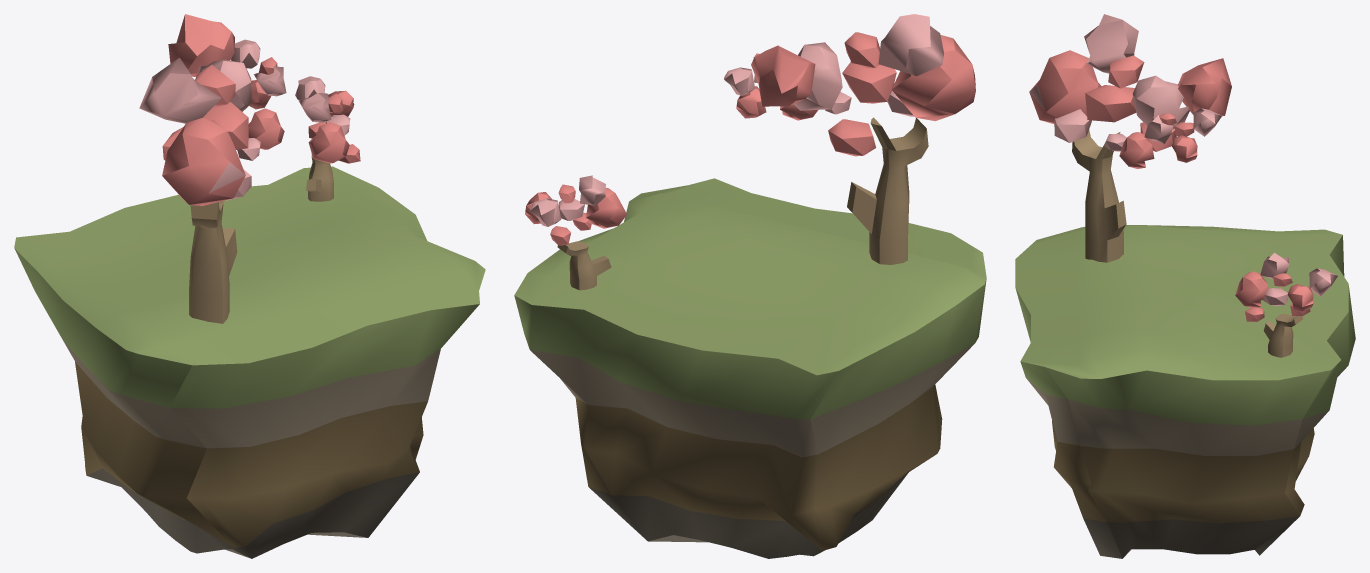
File: ground-red.fbx
3 views of the same model, side by side, from view 1: azimuth 30°, elevation 25°; view 2: azimuth 150°, elevation 25°; view 3: azimuth 270°, elevation 25° (orthographic). The views are drawn at different scales.
Visible parts, largest first — view 1: pCube1, pCylinder5, pCube2, pCylinder8, pCylinder7, polySurface6, pCylinder3, pCylinder6, polySurface90, polySurface28, pCylinder2, polySurface2 (+2 smaller); view 2: pCube1, pCube2, pCylinder5, pCylinder8, pCylinder7, pCylinder6, pCylinder3, polySurface28, pCylinder4, polySurface6, pCylinder2, polySurface2 (+3 smaller); view 3: pCube1, pCube2, pCylinder5, pCylinder7, pCylinder8, pCylinder6, pCylinder3, polySurface28, polySurface90, pCylinder1, polySurface6, pCylinder2 (+6 smaller).
Part boxes in pixels (x1,y1,x2,y2): pCube1: (14, 166, 485, 558); pCylinder5: (162, 118, 245, 205); pCube2: (189, 201, 237, 323); pCylinder8: (139, 58, 221, 123); pCylinder7: (168, 14, 234, 76); polySurface6: (308, 122, 349, 163); pCylinder3: (203, 102, 248, 149); pCylinder6: (197, 59, 251, 111); polySurface90: (248, 108, 284, 149); polySurface28: (306, 154, 333, 201); pCylinder2: (195, 65, 235, 107); polySurface2: (299, 93, 331, 122); pCube1: (514, 178, 986, 558); pCube2: (847, 117, 928, 264); pCylinder5: (892, 35, 975, 121); pCylinder8: (878, 14, 943, 76); pCylinder7: (751, 45, 815, 106); pCylinder6: (794, 42, 842, 110); pCylinder3: (842, 62, 896, 103); polySurface28: (557, 241, 611, 290); pCylinder4: (828, 119, 875, 156); polySurface6: (586, 187, 626, 228); pCylinder2: (844, 32, 880, 68); polySurface2: (579, 175, 605, 205); pCube1: (1015, 225, 1355, 558); pCube2: (1072, 129, 1126, 262); pCylinder5: (1029, 50, 1101, 123); pCylinder7: (1178, 58, 1231, 116); pCylinder8: (1084, 14, 1138, 73); pCylinder6: (1132, 75, 1189, 129); pCylinder3: (1085, 85, 1136, 122); polySurface28: (1263, 314, 1302, 357); polySurface90: (1119, 132, 1154, 168); pCylinder1: (1054, 109, 1091, 142); polySurface6: (1235, 271, 1268, 307); pCylinder2: (1108, 55, 1144, 88).
Size of the model in its own units: 8.19 by 11.07 by 7.44.
